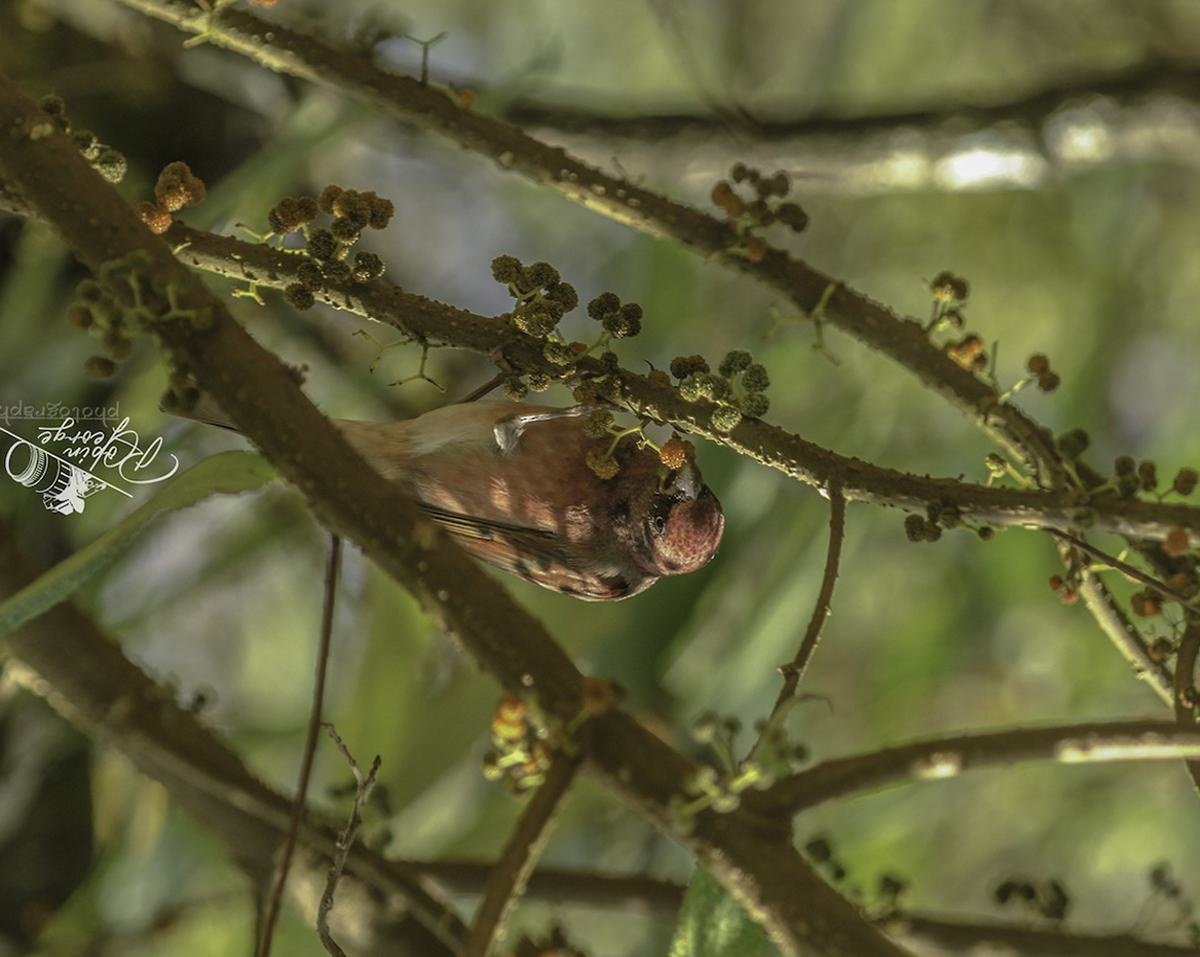rosefinch: (313, 371, 725, 633)
